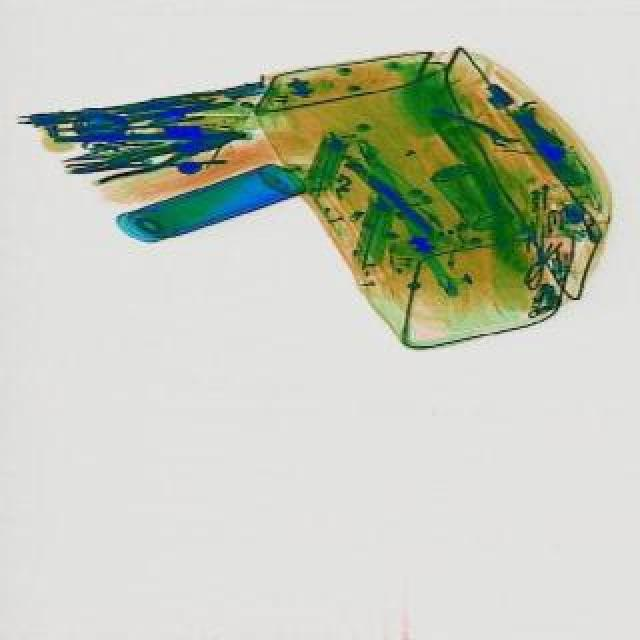wrench: (88, 122, 248, 188)
